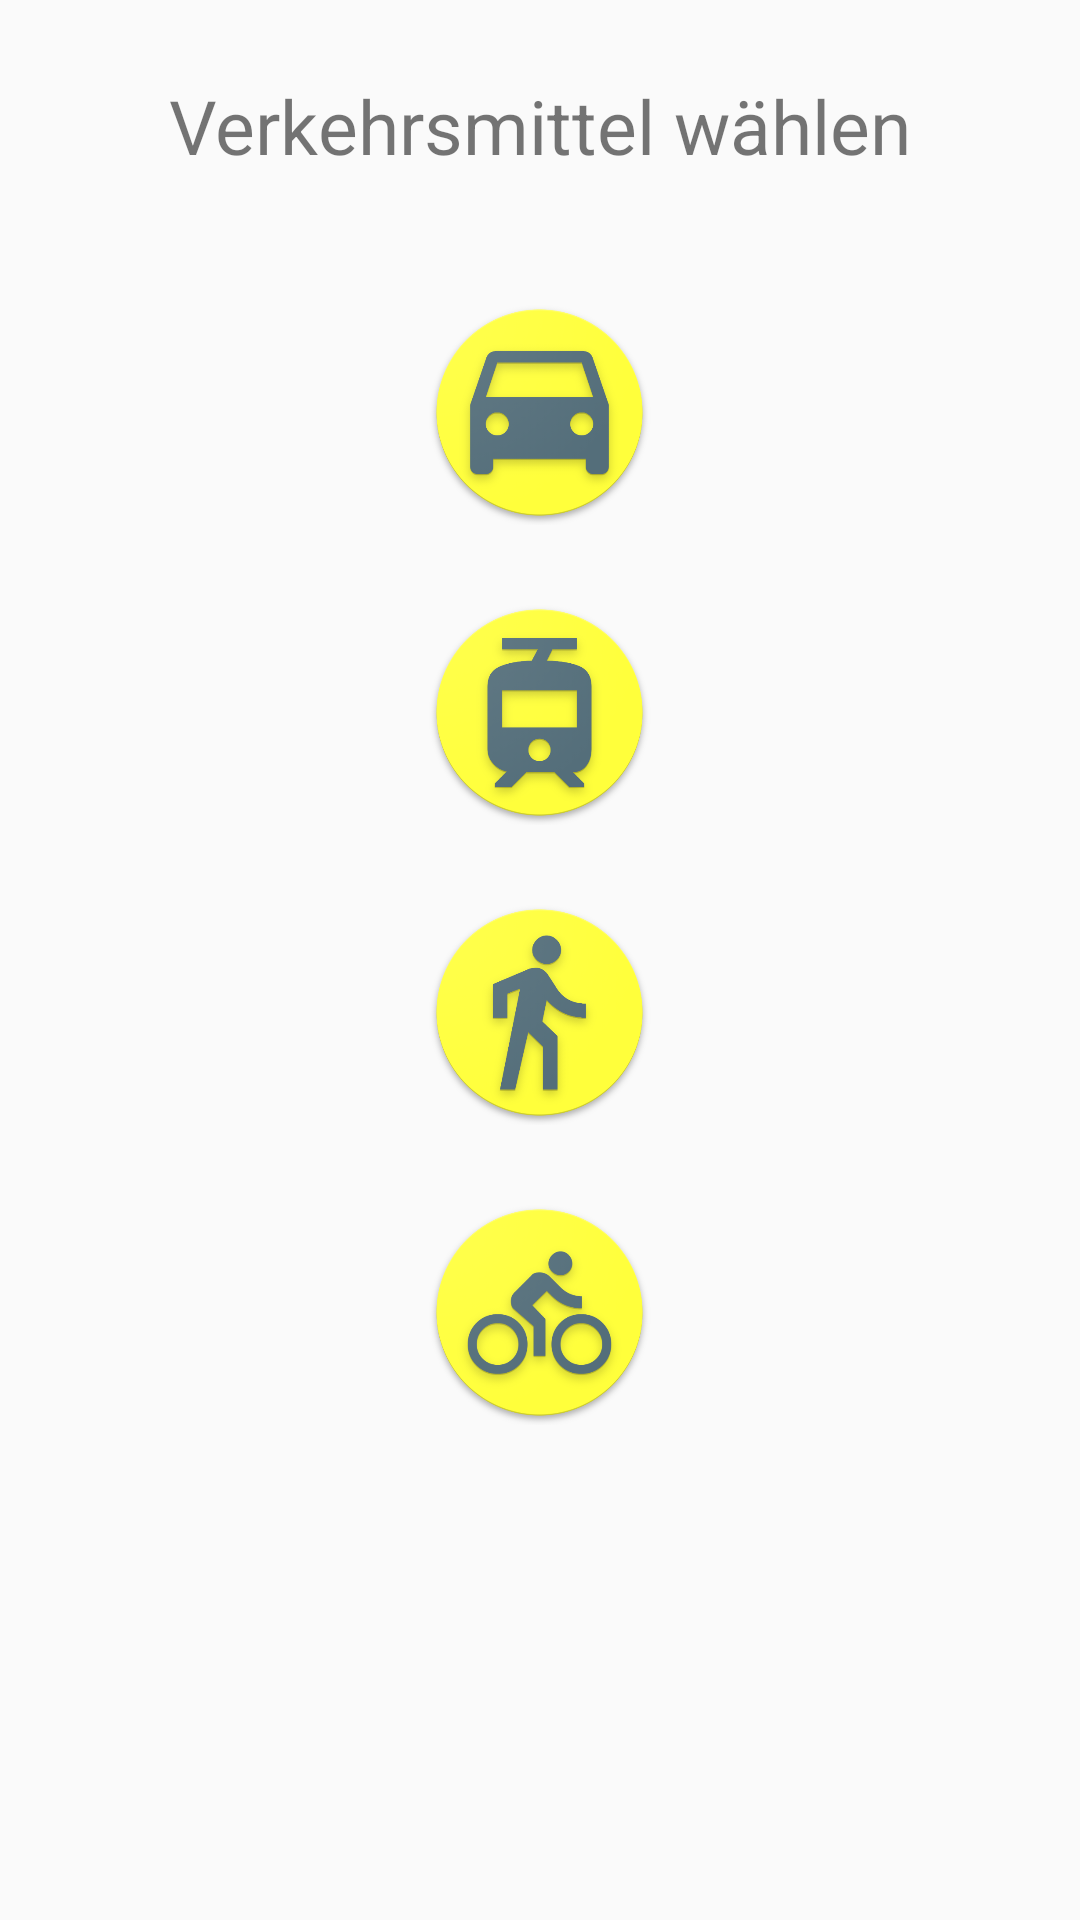

Named icons in this screenshot (1080px x 1920px) and their bounding boxes, (x1, y1, x2, y2):
bike: (435, 1209, 644, 1420)
car: (435, 309, 644, 520)
pedestrian: (435, 909, 644, 1120)
tram: (435, 609, 644, 820)
